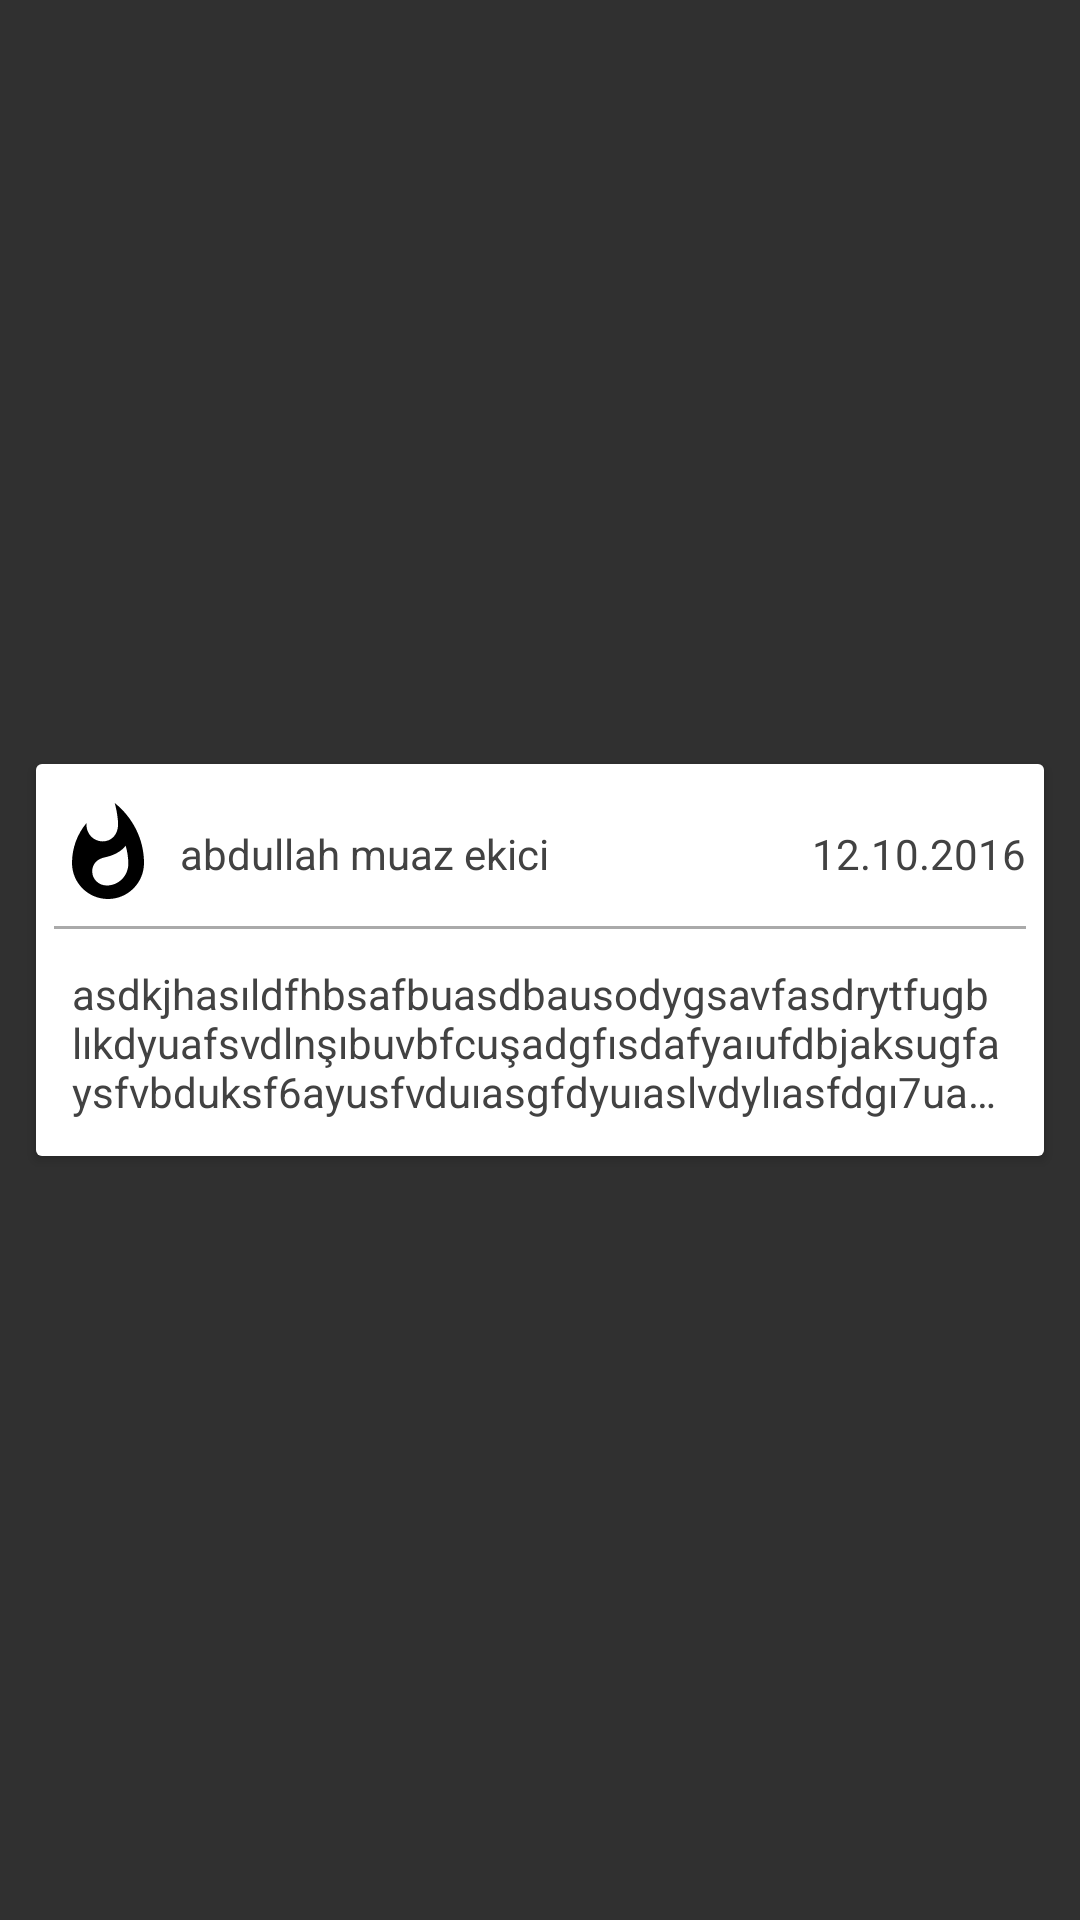

Icons on this 1080 × 1920 Android screen, each with the point to tap as (x,y):
whatshot: (108,851)
